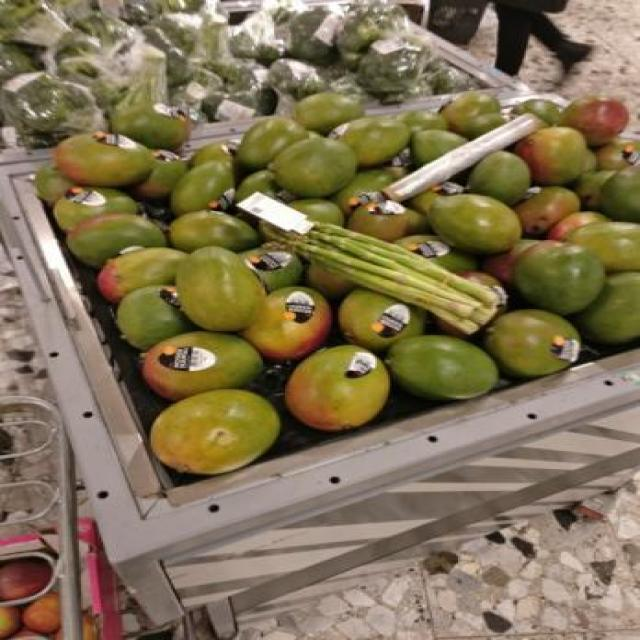Asparagus: (271, 204, 508, 332)
